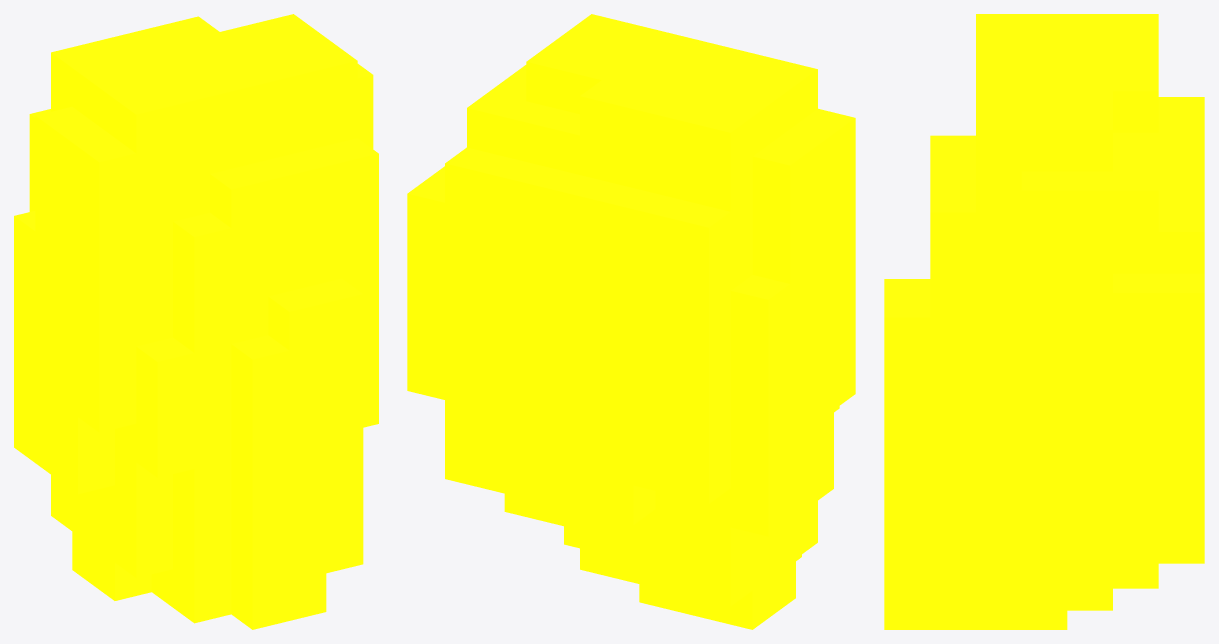
File: exportedGLTF.gltf
3 views of the same model, side by side, from view 1: azimuth 30°, elevation 25°; view 2: azimuth 150°, elevation 25°; view 3: azimuth 270°, elevation 25° (orthographic). The views are drawn at different scales.
Visible parts, largest first — view 1: ExportedGLTF; view 2: ExportedGLTF; view 3: ExportedGLTF.
Part boxes in pixels (x1,y1,x2,y2): ExportedGLTF: [14, 14, 378, 629]; ExportedGLTF: [407, 14, 855, 629]; ExportedGLTF: [884, 14, 1204, 629].
Bounding box in the file's own units: 0.225 × 0.325 × 0.175.
